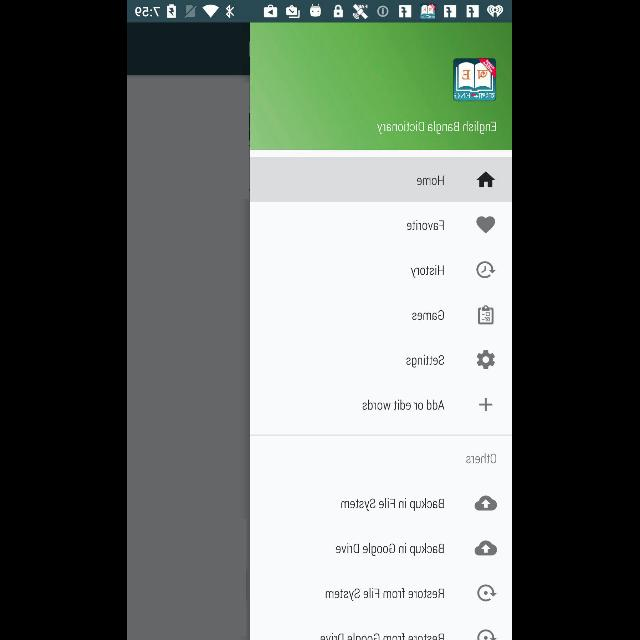icon: (476, 350, 496, 370), (474, 540, 498, 556), (476, 216, 496, 234), (477, 261, 497, 279), (478, 584, 498, 602), (474, 496, 498, 510), (478, 305, 494, 325), (478, 172, 497, 188), (479, 398, 493, 412)
image: (454, 58, 496, 102), (478, 628, 498, 640)
panel: (251, 22, 513, 640)
text: (377, 121, 497, 135), (326, 587, 444, 601), (336, 542, 444, 556), (342, 497, 444, 511), (322, 632, 446, 640), (362, 400, 446, 410), (407, 354, 445, 368), (411, 264, 445, 278), (407, 220, 445, 230), (467, 452, 498, 463), (417, 174, 445, 186), (413, 310, 445, 320)
uppertaskbar: (128, 1, 512, 23)
